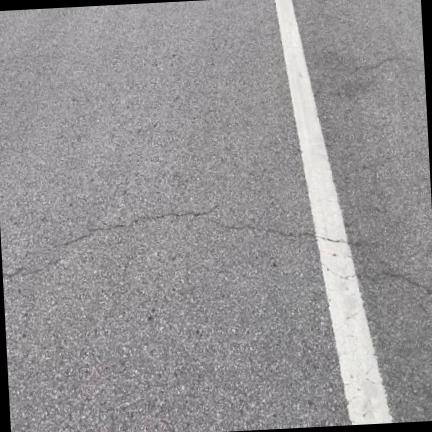Road: (0, 0, 350, 431)
